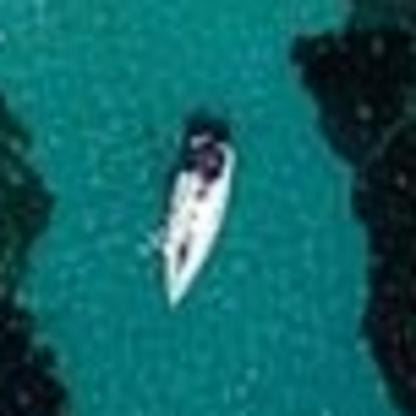ship: (147, 116, 242, 314)
